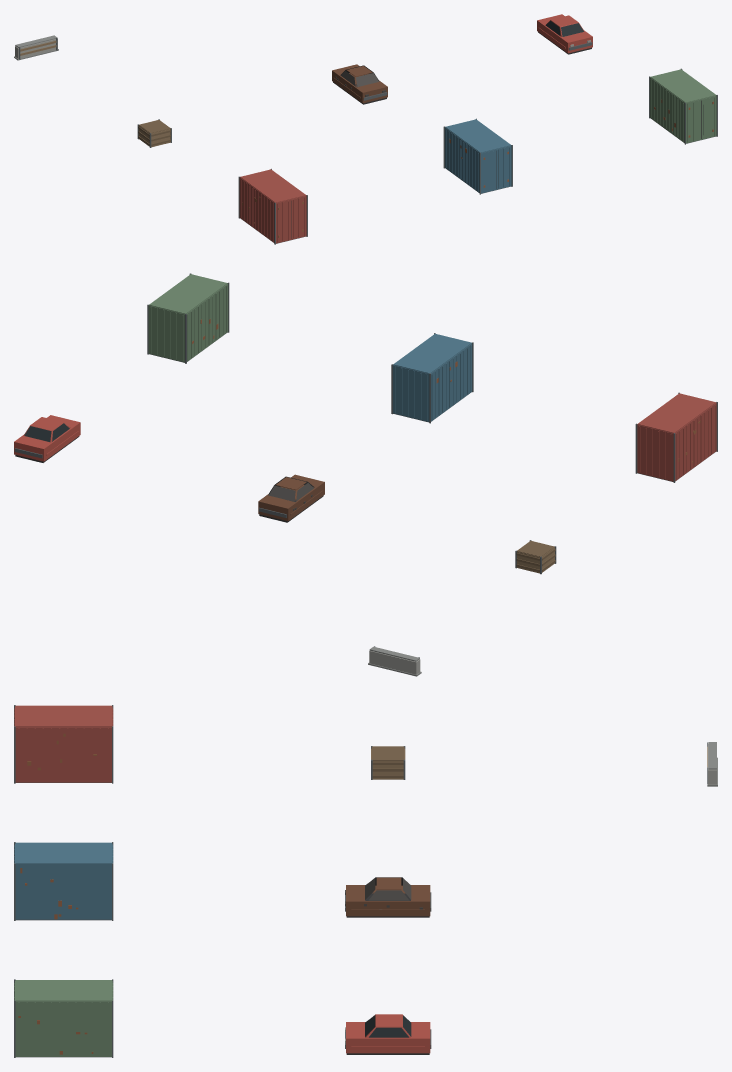
Rendered from props.glb.
The picture shows the model from 3 angles, top to bottom: view 1: azimuth 30°, elevation 25°; view 2: azimuth 150°, elevation 25°; view 3: azimuth 270°, elevation 25°; orthographic projection. The views are drawn at different scales.
Parts seen in each view (by area): view 1: container_blue, container_red, container_green, car_wreck, car_red, crate, barricade; view 2: container_green, container_red, container_blue, car_wreck, car_red, crate, barricade; view 3: container_blue, container_red, container_green, car_wreck, car_red, crate.
Part boxes in pixels (box(x1,y1,x2,y2)): container_blue: box(443, 118, 512, 194); container_red: box(238, 168, 307, 244); container_green: box(649, 68, 717, 144); car_wreck: box(332, 64, 387, 104); car_red: box(537, 14, 592, 54); crate: box(137, 119, 171, 147); barricade: box(14, 35, 58, 60); container_green: box(147, 273, 229, 363); container_red: box(635, 392, 717, 482); container_blue: box(391, 333, 473, 423); car_wreck: box(258, 474, 324, 522); car_red: box(14, 415, 80, 462); crate: box(515, 540, 556, 574); barricade: box(368, 646, 421, 676); container_blue: box(14, 842, 113, 920); container_red: box(14, 705, 113, 783); container_green: box(14, 979, 113, 1057); car_wreck: box(345, 877, 431, 917); car_red: box(345, 1014, 431, 1054); crate: box(371, 746, 405, 779).
Size of the model in its own units: 32.7 by 2.9 by 32.55.
